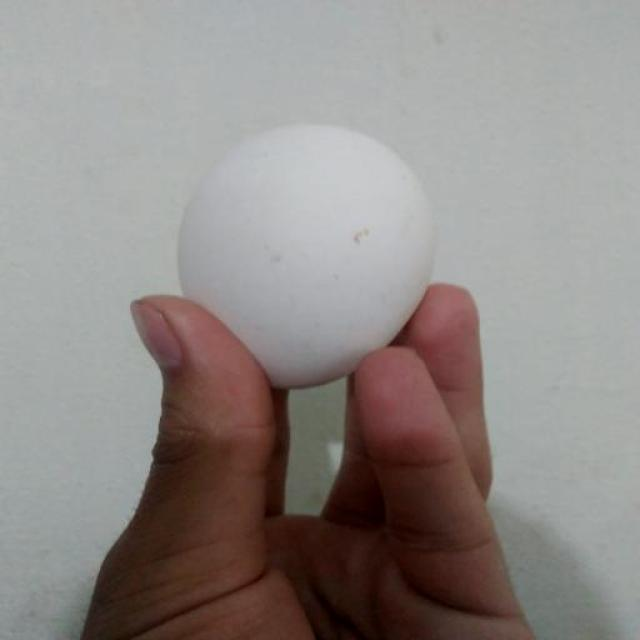telur: (173, 122, 442, 391)
